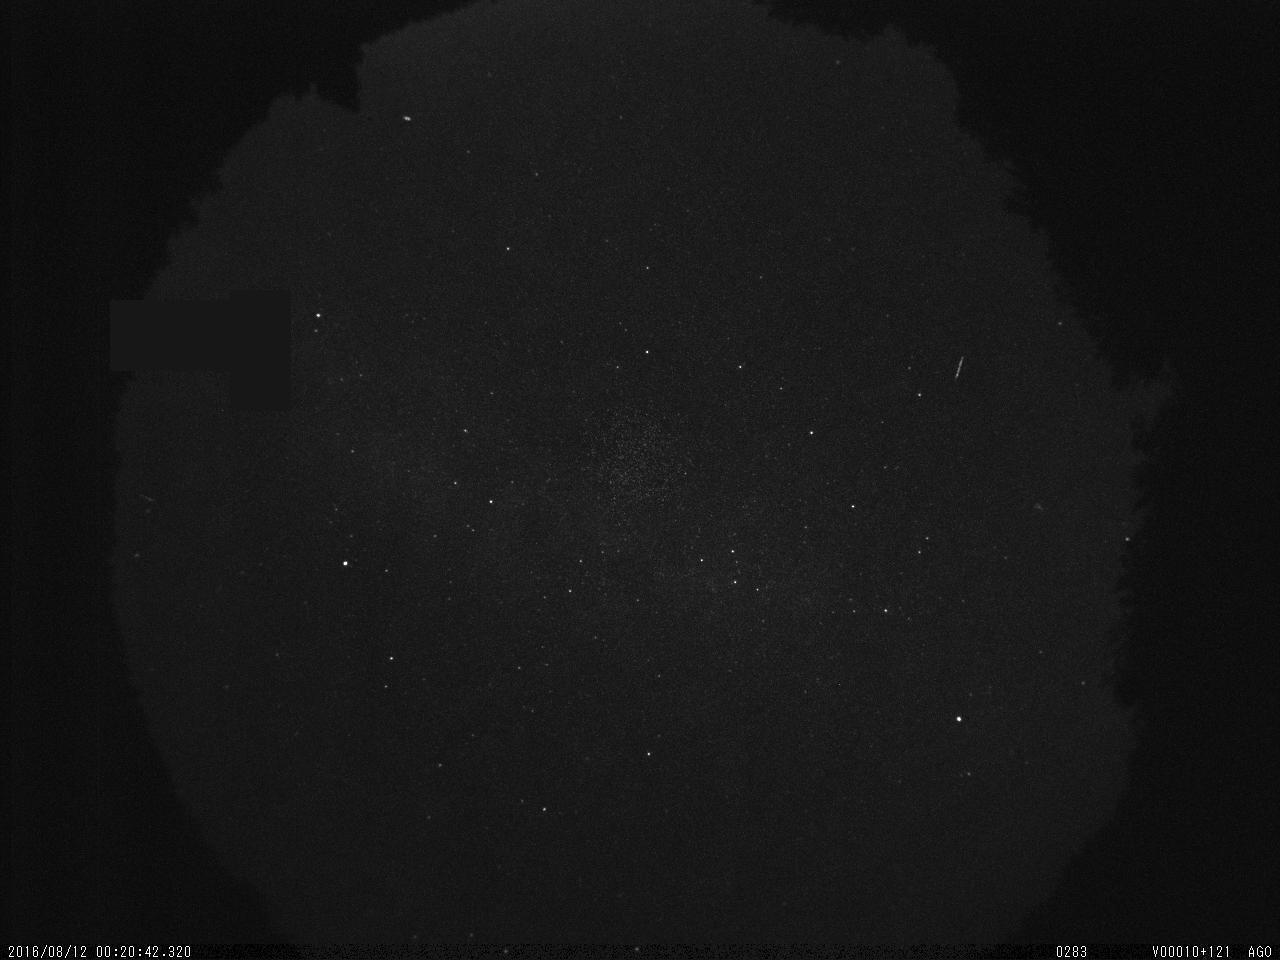Meteor: (951, 349, 969, 384)
